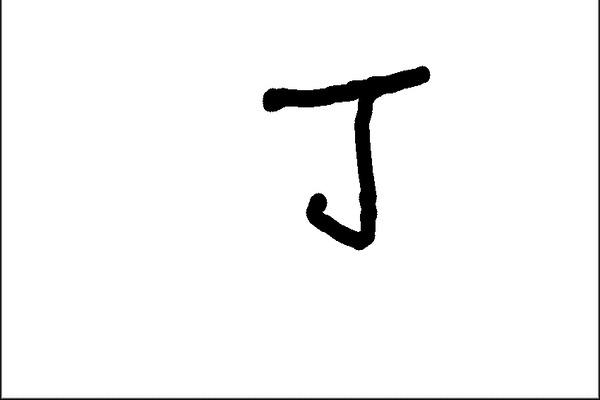J: (252, 63, 433, 251)
